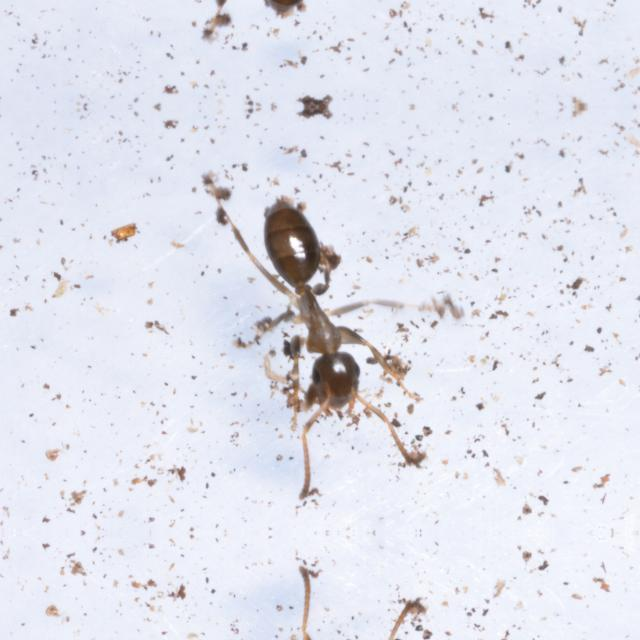Colobopsis: (224, 190, 386, 428)
